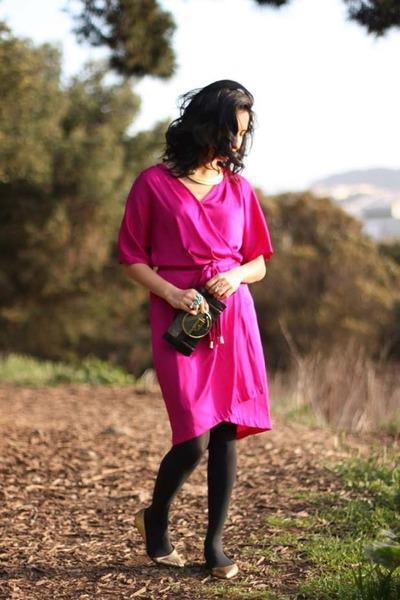bag: (165, 300, 225, 355)
dress: (111, 167, 271, 443)
shoe: (186, 547, 225, 583)
